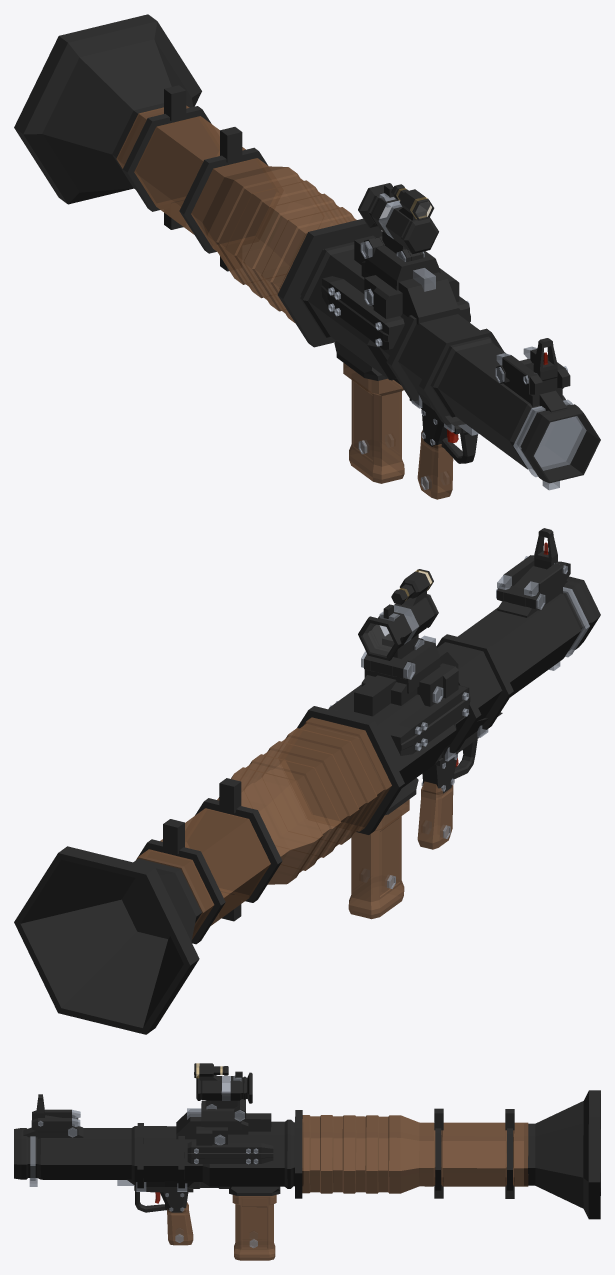
The model's file is RocketEmpty.fbx.
The picture shows the model from 3 angles, top to bottom: view 1: azimuth 30°, elevation 25°; view 2: azimuth 150°, elevation 25°; view 3: azimuth 270°, elevation 25°; orthographic projection. The views are drawn at different scales.
Parts seen in each view (by area): view 1: Cylinder; view 2: Cylinder; view 3: Cylinder.
Boxes of the visible parts, box(x1,y1,x2,y2) form: Cylinder: box(14, 14, 600, 499); Cylinder: box(14, 528, 600, 1034); Cylinder: box(14, 1063, 600, 1260).
Bounding box in the file's own units: 70.09 × 114 × 317.
